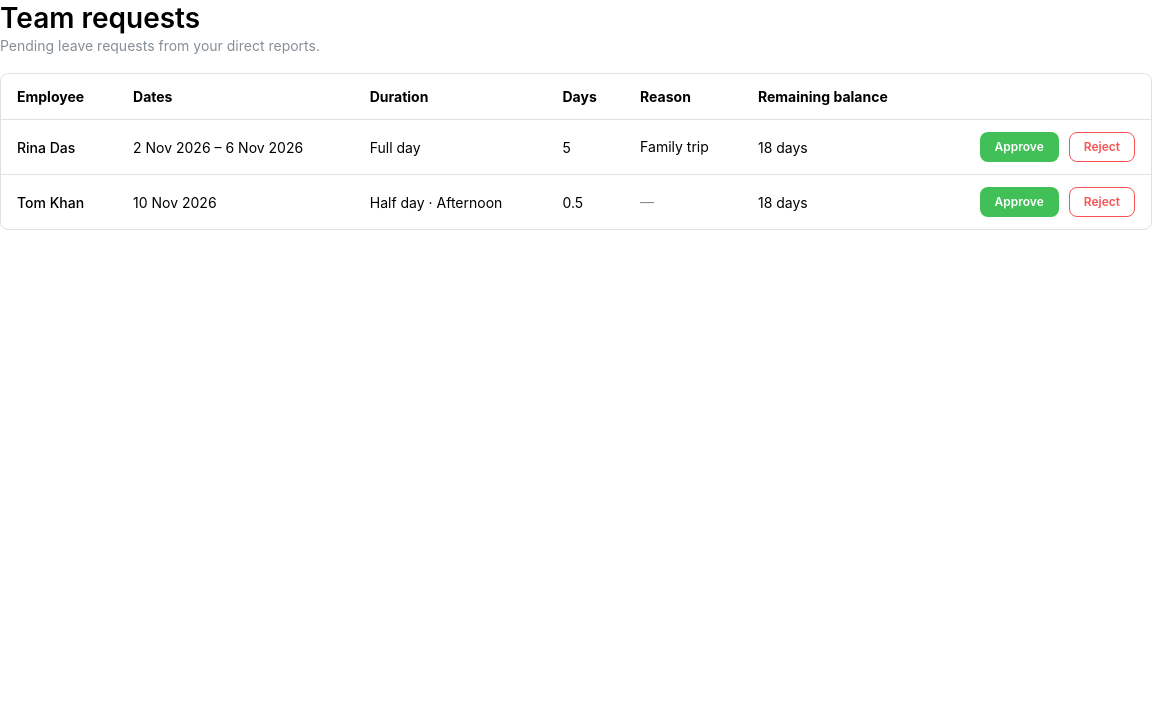
Scenario: Team › approves a request without a comment and removes it from the list
Check: the text "Rina Das" is shown, box [1,120,117,175]
Click the button "Approve" in the row of "Rina Das".
click(1019, 147)  # box [980,132,1059,162]
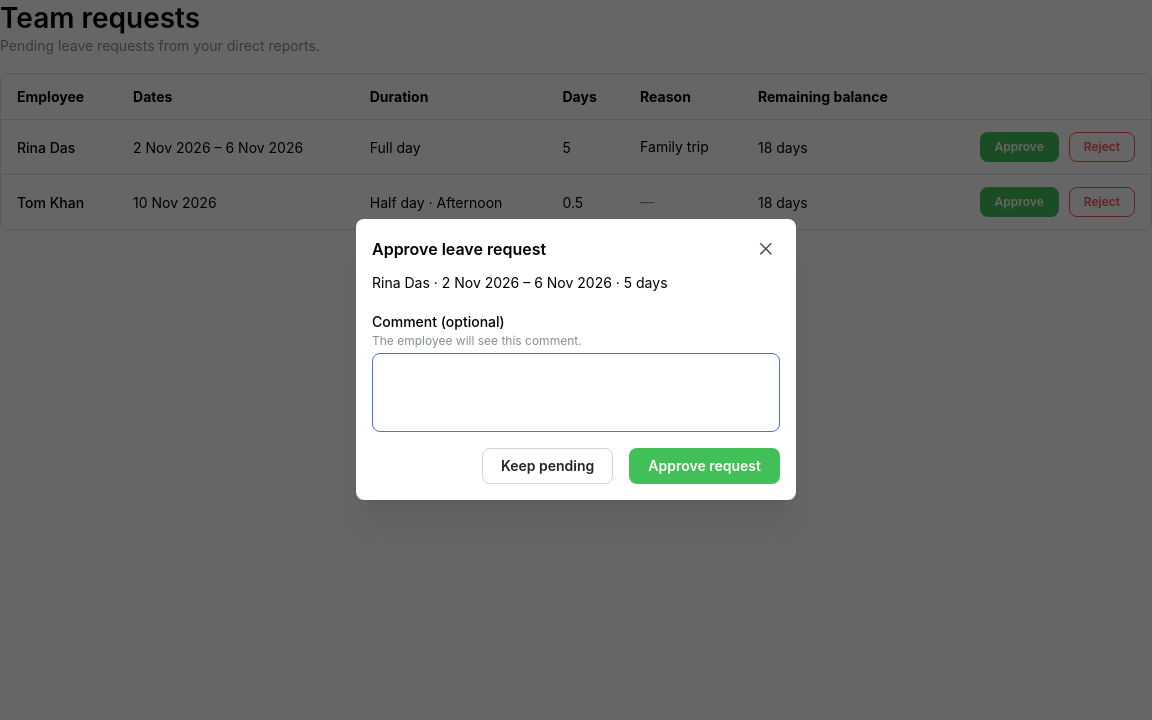
Check: the dialog shows "Approve leave request", box [372,239,546,259]
Click the button "Approve request".
click(705, 467)  # box [629,449,780,485]
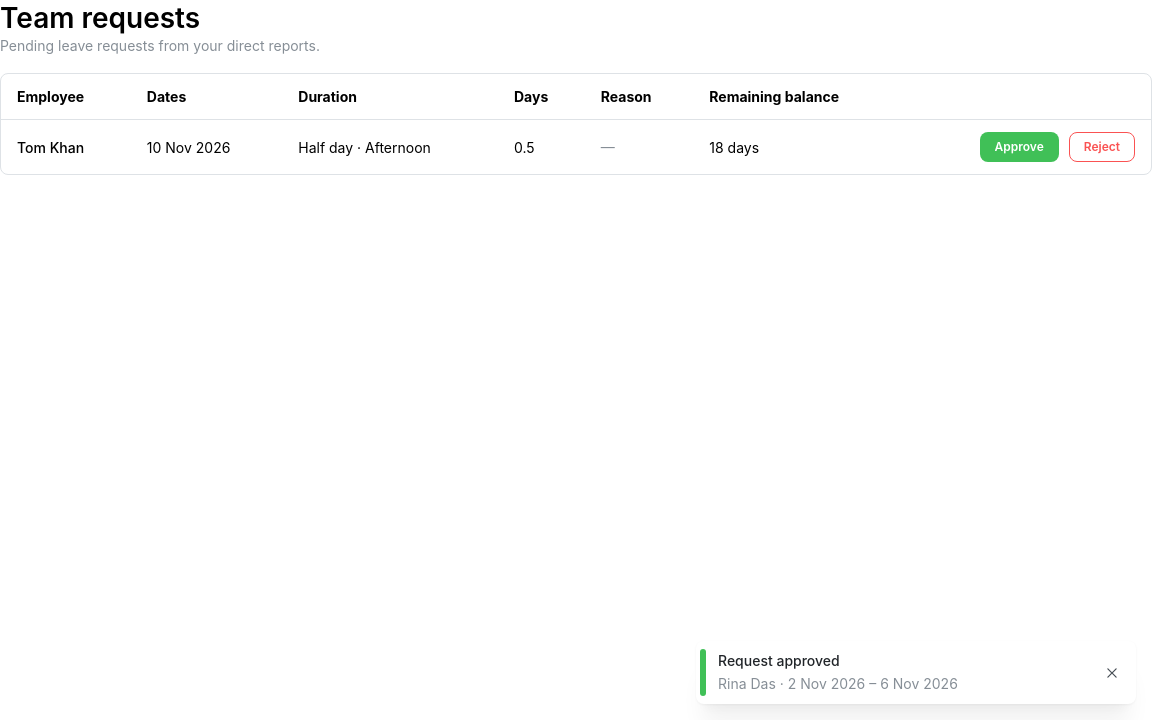
Check: the text "Tom Khan" is shown, box [1,120,131,174]
Check: the text "Request approved" is shown, box [718,652,840,669]
